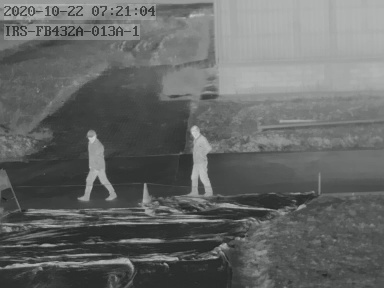person: (78, 130, 117, 201), (190, 126, 212, 198)
